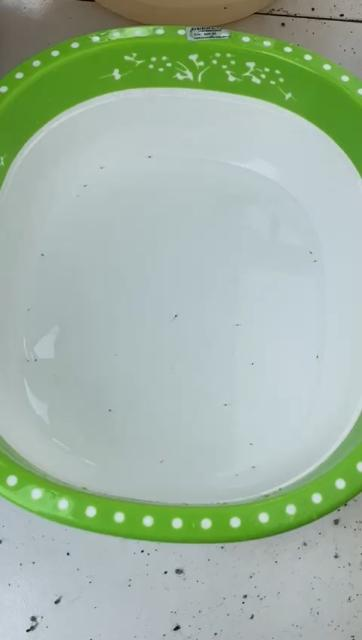benur: (174, 311, 181, 320), (250, 462, 257, 470), (145, 154, 154, 160), (236, 320, 242, 329), (235, 471, 242, 478), (158, 459, 166, 465), (98, 165, 105, 171), (223, 402, 229, 408), (82, 183, 89, 188), (40, 253, 47, 258), (107, 408, 114, 413), (311, 259, 318, 264), (249, 441, 254, 447), (251, 362, 256, 368), (316, 354, 321, 360), (309, 250, 314, 256), (27, 307, 32, 312), (34, 358, 39, 363), (76, 194, 80, 200), (26, 358, 30, 364)
